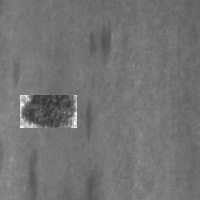inclusion: (84, 18, 114, 65), (24, 147, 40, 199), (80, 98, 97, 143), (8, 54, 23, 92)
patches: (20, 95, 77, 128)
